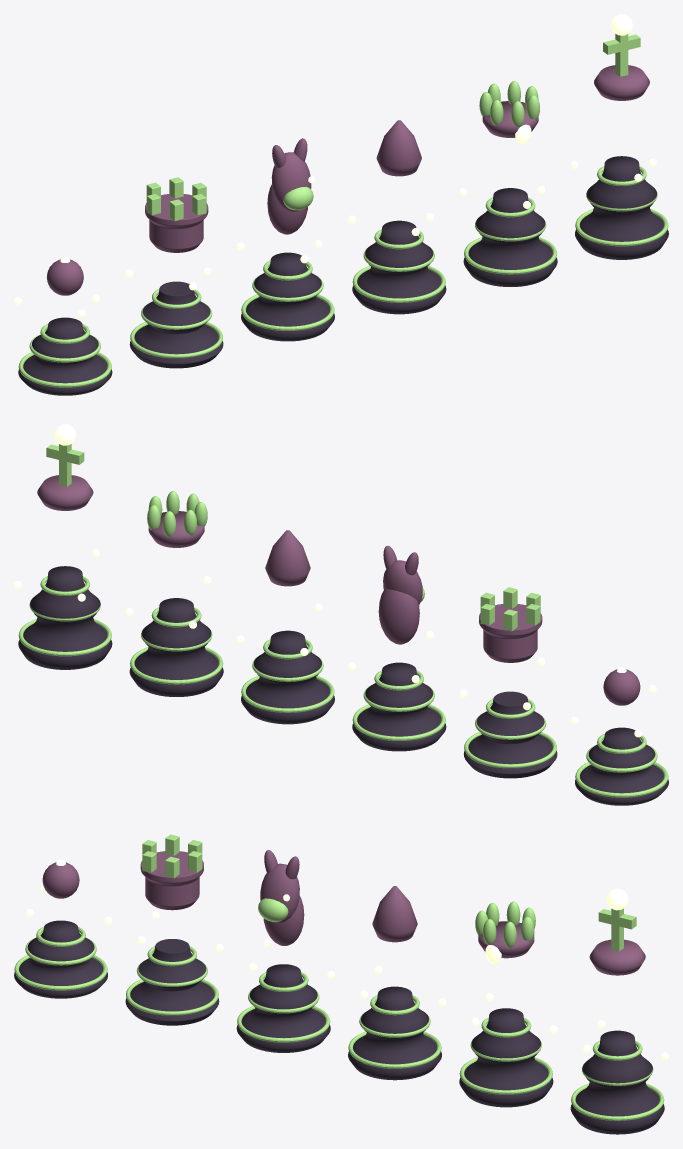
The model's file is 12_Nigromante_Gotico_6_Piezas.glb.
3 views of the same model, one above another, from view 1: azimuth 30°, elevation 25°; view 2: azimuth 150°, elevation 25°; view 3: azimuth 330°, elevation 25° (orthographic).
Parts seen in each view (by area): view 1: 12_Nigromante_Gotico_Torre, 12_Nigromante_Gotico_Rey, 12_Nigromante_Gotico_Caballo, 12_Nigromante_Gotico_Reina, 12_Nigromante_Gotico_Alfil, 12_Nigromante_Gotico_Peon; view 2: 12_Nigromante_Gotico_Torre, 12_Nigromante_Gotico_Rey, 12_Nigromante_Gotico_Caballo, 12_Nigromante_Gotico_Reina, 12_Nigromante_Gotico_Alfil, 12_Nigromante_Gotico_Peon; view 3: 12_Nigromante_Gotico_Rey, 12_Nigromante_Gotico_Torre, 12_Nigromante_Gotico_Reina, 12_Nigromante_Gotico_Caballo, 12_Nigromante_Gotico_Alfil, 12_Nigromante_Gotico_Peon.
Part boxes in pixels (<box>): 12_Nigromante_Gotico_Torre: <box>125,177,223,368</box>; 12_Nigromante_Gotico_Rey: <box>570,14,668,259</box>; 12_Nigromante_Gotico_Caballo: <box>236,138,334,341</box>; 12_Nigromante_Gotico_Reina: <box>459,81,557,286</box>; 12_Nigromante_Gotico_Alfil: <box>348,120,446,314</box>; 12_Nigromante_Gotico_Peon: <box>14,256,112,395</box>; 12_Nigromante_Gotico_Torre: <box>459,587,557,778</box>; 12_Nigromante_Gotico_Rey: <box>14,424,112,669</box>; 12_Nigromante_Gotico_Caballo: <box>348,545,446,751</box>; 12_Nigromante_Gotico_Reina: <box>125,491,223,696</box>; 12_Nigromante_Gotico_Alfil: <box>236,530,334,724</box>; 12_Nigromante_Gotico_Peon: <box>570,666,668,805</box>; 12_Nigromante_Gotico_Rey: <box>570,888,668,1134</box>; 12_Nigromante_Gotico_Torre: <box>125,834,223,1025</box>; 12_Nigromante_Gotico_Reina: <box>459,901,557,1107</box>; 12_Nigromante_Gotico_Caballo: <box>236,850,334,1052</box>; 12_Nigromante_Gotico_Alfil: <box>348,886,446,1080</box>; 12_Nigromante_Gotico_Peon: <box>14,859,112,998</box>.
Size of the model in its own units: 8.16 by 2.77 by 1.09.
